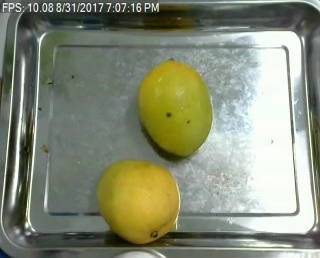Mango: (140, 59, 215, 155), (97, 158, 179, 245)
